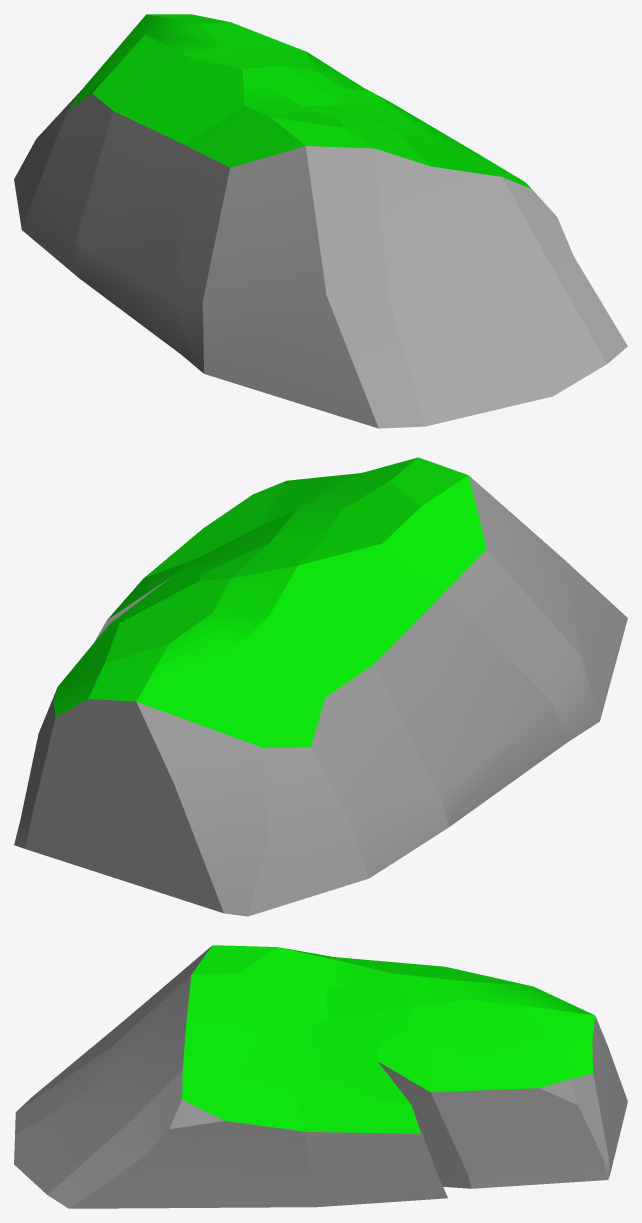
File: rock_jungle_medium_E.fbx
3 renders of one model, top to bottom at view 1: azimuth 30°, elevation 25°; view 2: azimuth 150°, elevation 25°; view 3: azimuth 270°, elevation 25°, orthographic. The views are drawn at different scales.
Parts seen in each view (by area): view 1: rock_jungle_medium_E; view 2: rock_jungle_medium_E; view 3: rock_jungle_medium_E.
Boxes of the visible parts, box(x1,y1,x2,y2) form: rock_jungle_medium_E: box(14, 14, 627, 428); rock_jungle_medium_E: box(14, 457, 627, 916); rock_jungle_medium_E: box(14, 945, 627, 1208).
Size of the model in its own units: 47.14 by 26.01 by 85.71.
